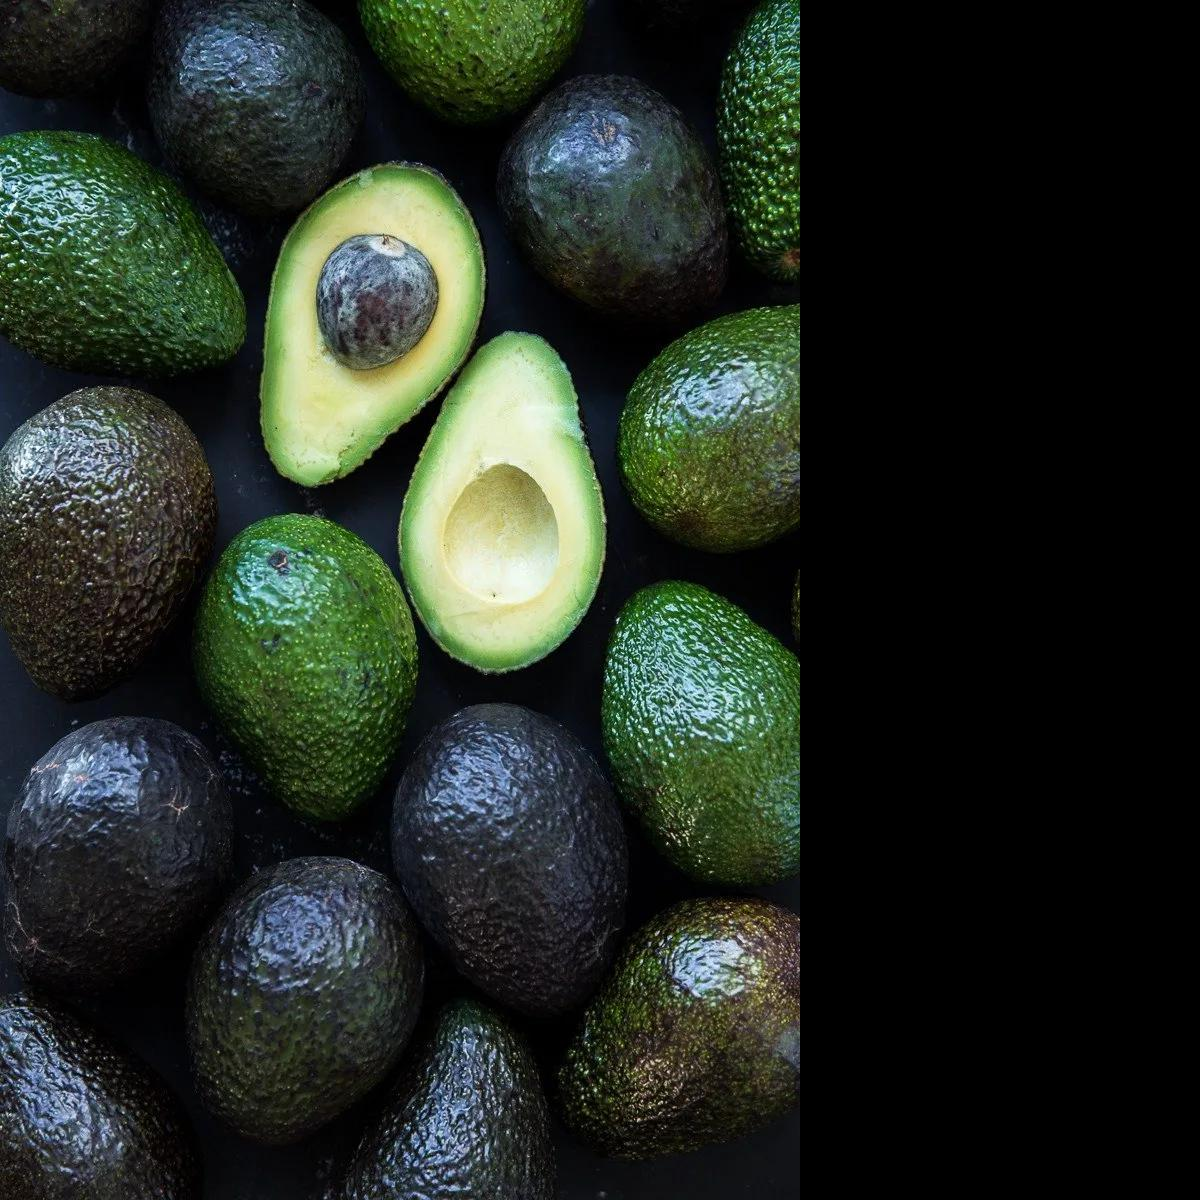almost: (555, 901, 799, 1193), (4, 384, 216, 704)
ripe: (387, 702, 640, 1047), (181, 854, 419, 1166), (496, 73, 733, 326), (145, 2, 358, 218), (327, 1004, 549, 1200), (70, 716, 232, 973), (73, 1016, 182, 1200)
unripe: (192, 511, 420, 827), (602, 579, 800, 890), (618, 304, 800, 555), (70, 132, 249, 375), (359, 2, 595, 127), (714, 2, 800, 289)
